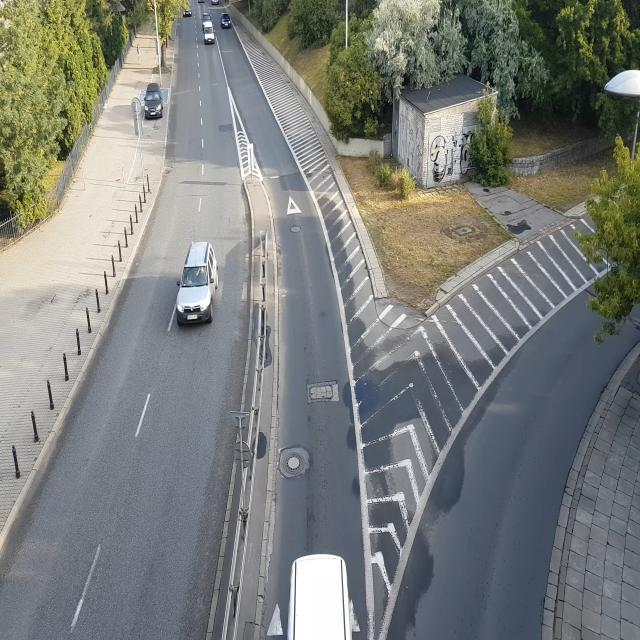car: (291, 556, 352, 640), (178, 242, 218, 326), (143, 89, 165, 119), (202, 24, 215, 44), (182, 5, 192, 19), (222, 16, 232, 29)
